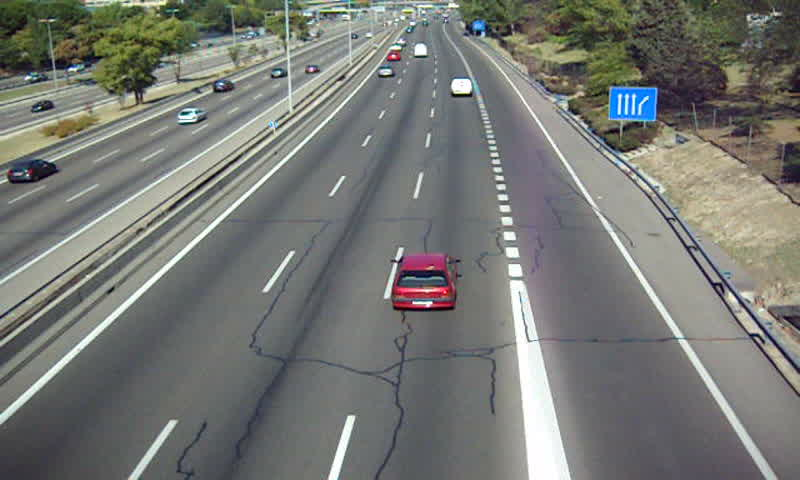car: (392, 253, 456, 311), (377, 64, 395, 77)
van: (450, 78, 472, 98)
